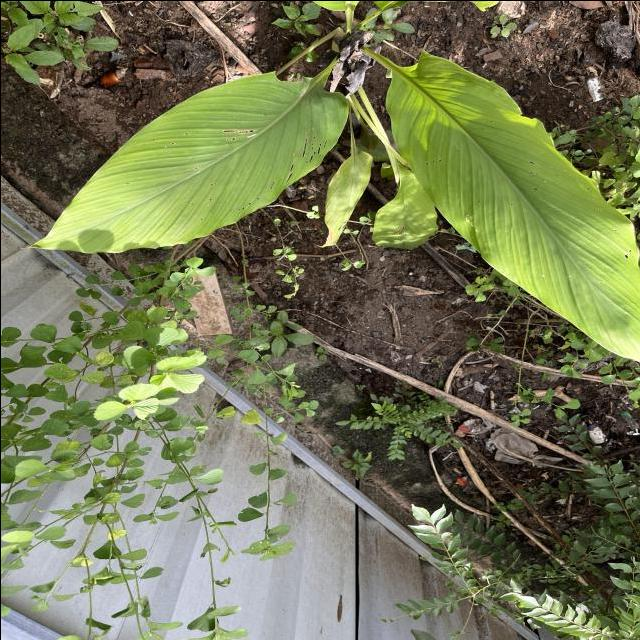Curcuma longa: (373, 49, 640, 368), (11, 67, 356, 260)
